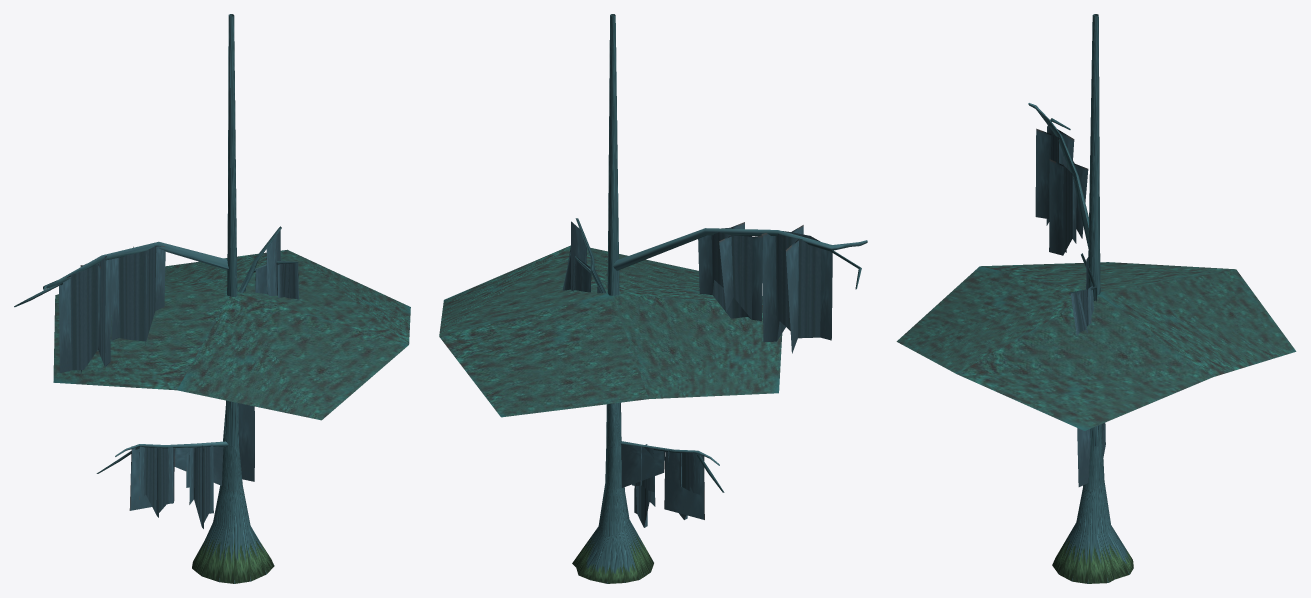
The model's file is swamp_tree_swap_3.fbx.
The picture shows the model from 3 angles, left to right: view 1: azimuth 30°, elevation 25°; view 2: azimuth 150°, elevation 25°; view 3: azimuth 270°, elevation 25°; orthographic projection.
Visible parts, largest first — view 1: leaves, trunk, moss__6, moss__5, moss__4, moss__1, branch__3, moss__2, moss__3, moss__9, moss__8, branch__1; view 2: leaves, trunk, moss__6, moss__5, moss__2, branch__3, moss__1, moss__4, moss__9, moss__8; view 3: leaves, trunk, moss__5, moss__6, branch__3, moss__9, moss__3.
Boxes of the visible parts, <box> form: leaves: <box>53,249,410,420</box>; trunk: <box>192,14,274,583</box>; moss__6: <box>59,256,111,372</box>; moss__5: <box>111,245,165,345</box>; moss__4: <box>139,446,173,517</box>; moss__1: <box>186,444,213,528</box>; branch__3: <box>14,241,228,307</box>; moss__2: <box>129,446,223,510</box>; moss__3: <box>238,403,254,481</box>; moss__9: <box>255,261,298,299</box>; moss__8: <box>266,226,280,295</box>; branch__1: <box>96,441,228,473</box>; leaves: <box>439,245,782,417</box>; trunk: <box>572,14,653,583</box>; moss__6: <box>761,225,832,353</box>; moss__5: <box>698,222,762,320</box>; moss__2: <box>621,444,704,519</box>; branch__3: <box>612,228,867,289</box>; moss__1: <box>632,444,655,527</box>; moss__4: <box>668,450,700,519</box>; moss__9: <box>562,246,591,292</box>; moss__8: <box>571,221,586,290</box>; leaves: <box>896,262,1296,430</box>; trunk: <box>1052,14,1133,583</box>; moss__5: <box>1049,148,1088,255</box>; moss__6: <box>1035,124,1074,252</box>; branch__3: <box>1028,103,1088,248</box>; moss__9: <box>1070,286,1093,335</box>; moss__3: <box>1077,428,1090,486</box>.
Bounding box in the file's own units: 12816 × 16664 × 10961.
2 materials, 2 textured.
